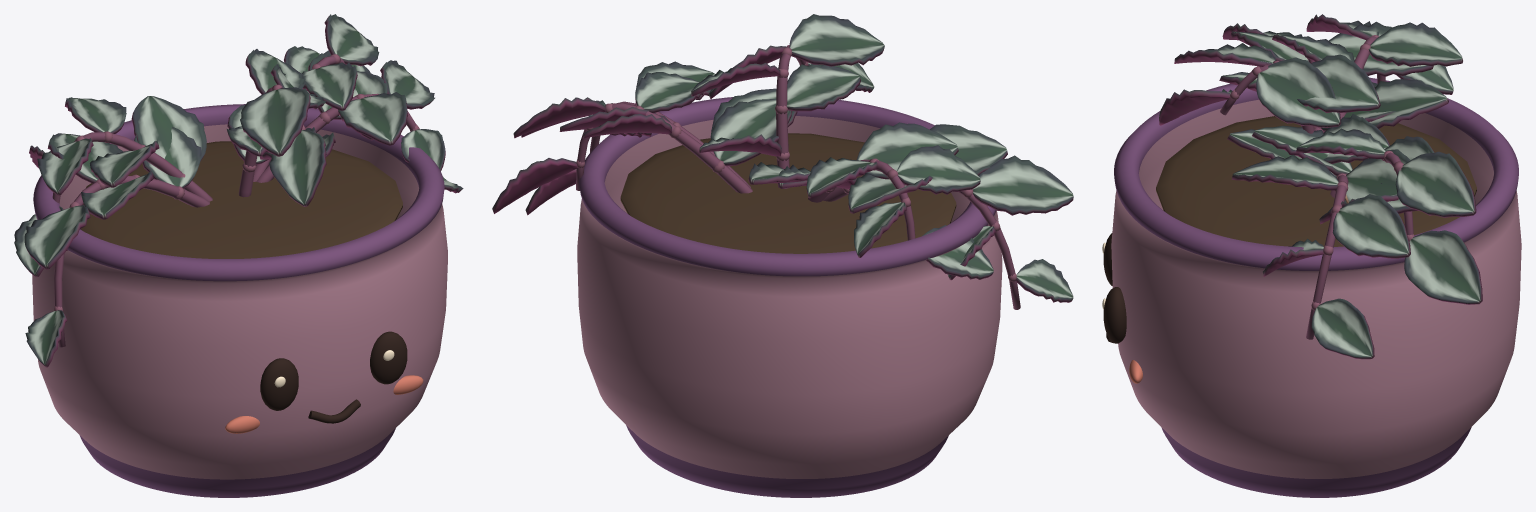
Rendered from silver-inch-plant-v1.glb.
3 views of the same model, side by side, from view 1: azimuth 30°, elevation 25°; view 2: azimuth 150°, elevation 25°; view 3: azimuth 270°, elevation 25° (orthographic). The views are drawn at different scales.
Parts seen in each view (by area): view 1: Wheel-thrown ceramic, Foliage draw mesh, Soil, Eye, Eye.001, Smile; view 2: Wheel-thrown ceramic, Foliage draw mesh, Soil; view 3: Wheel-thrown ceramic, Foliage draw mesh, Soil, Eye.001.
Part boxes in pixels (<box>): Wheel-thrown ceramic: <box>32,104,447,497</box>; Foliage draw mesh: <box>14,14,463,367</box>; Soil: <box>80,141,402,258</box>; Eye: <box>260,358,298,410</box>; Eye.001: <box>370,331,407,384</box>; Smile: <box>308,399,360,423</box>; Wheel-thrown ceramic: <box>577,97,1002,497</box>; Foliage draw mesh: <box>492,14,1073,309</box>; Soil: <box>620,133,956,253</box>; Wheel-thrown ceramic: <box>1111,77,1521,497</box>; Foliage draw mesh: <box>1159,14,1482,359</box>; Soil: <box>1156,116,1476,246</box>; Eye.001: <box>1103,287,1126,343</box>.
Size of the model in its own units: 2.08 by 1.59 by 1.53.
